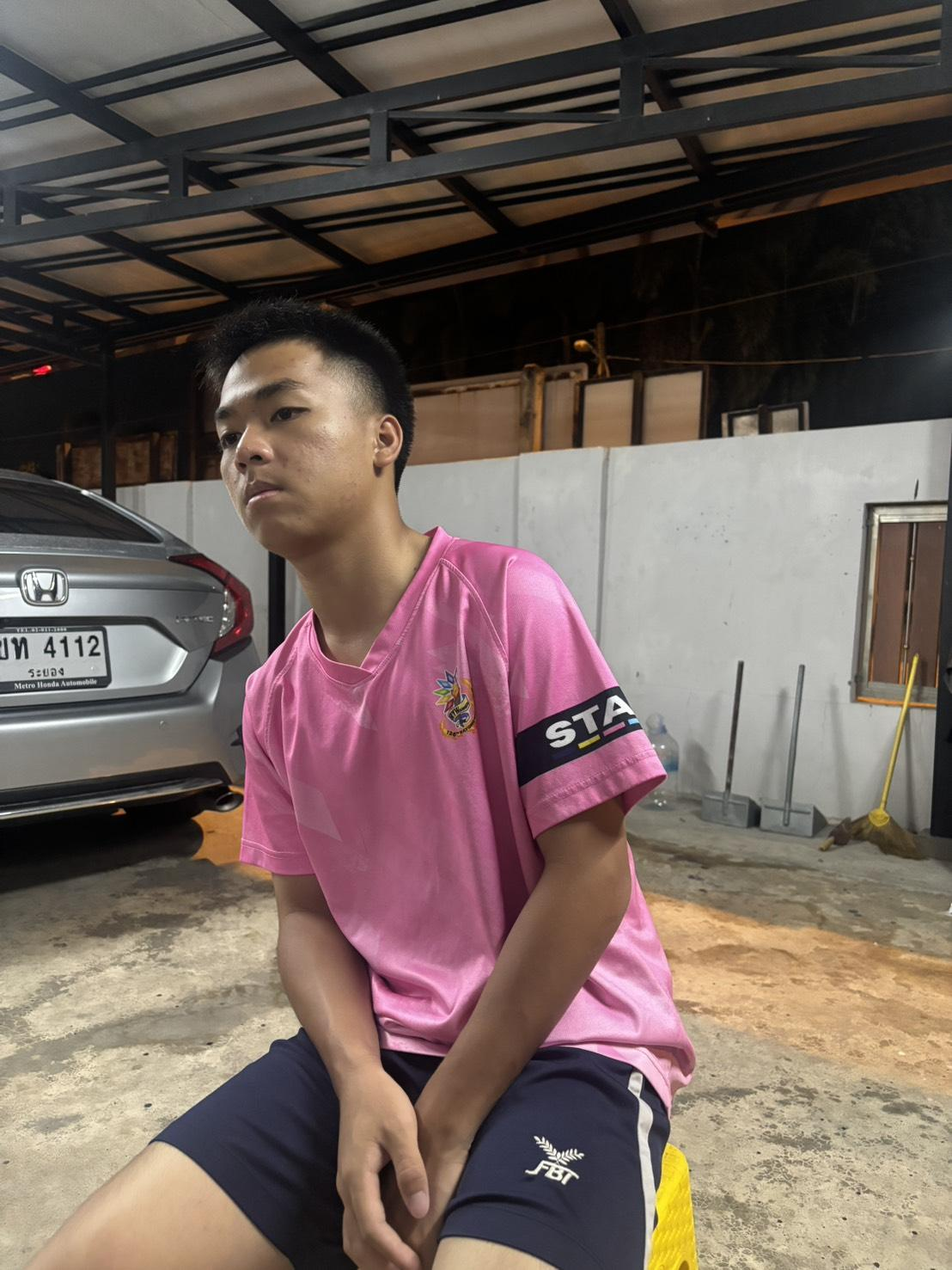BadPosture: (204, 299, 693, 1146)
